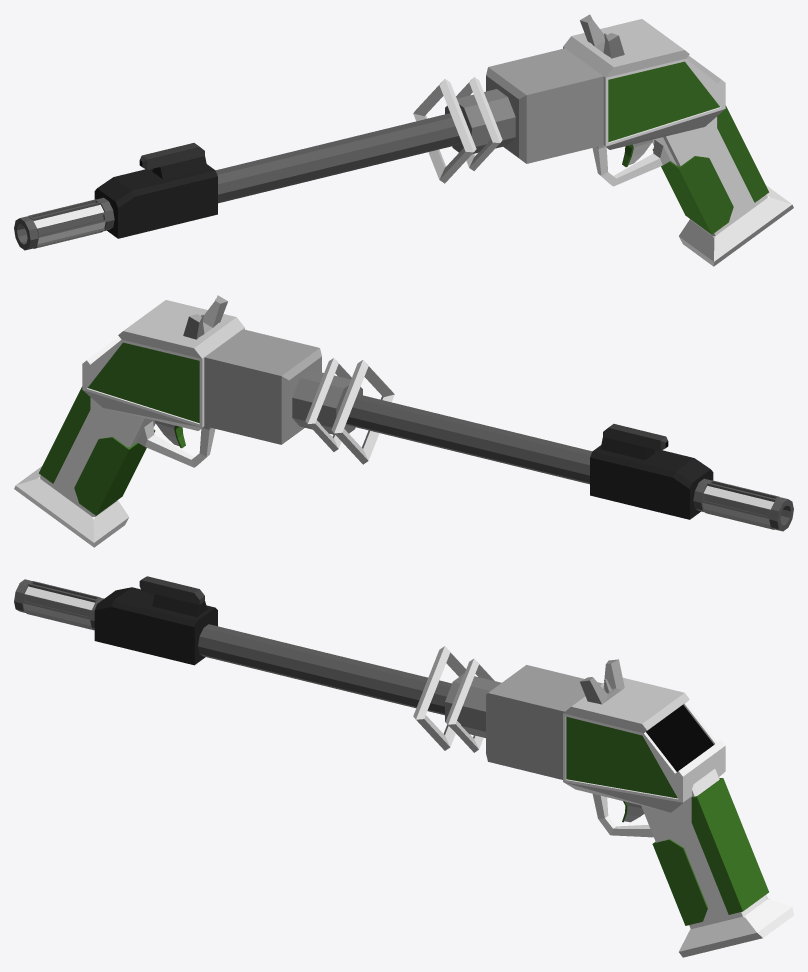
File: Level3Textured.fbx
The picture shows the model from 3 angles, top to bottom: view 1: azimuth 30°, elevation 25°; view 2: azimuth 150°, elevation 25°; view 3: azimuth 330°, elevation 25°; orthographic projection.
Parts seen in each view (by area): view 1: LaserModule, Pipe, SmallLaserModule, Handle.002, RubberPad.004, LaserModule.001, Ring.002, RubberPad.003, TriggerRing.002, Ring.001, Scope; view 2: LaserModule, Pipe, SmallLaserModule, Handle.002, RubberPad.004, LaserModule.001, Ring.002, RubberPad.003, TriggerRing.002, Ring.001, Scope; view 3: LaserModule, Pipe, SmallLaserModule, Handle.002, RubberPad.003, RubberPad.004, LaserModule.002, LaserModule.001, Ring.002, Ring.001, Scope, TriggerRing.002.
Part boxes in pixels (x1,y1,x2,y2): LaserModule: [486, 19, 725, 163]; Pipe: [14, 113, 461, 250]; SmallLaserModule: [94, 143, 217, 238]; Handle.002: [652, 116, 793, 266]; RubberPad.004: [652, 149, 733, 234]; LaserModule.001: [445, 89, 515, 153]; Ring.002: [413, 79, 476, 183]; RubberPad.003: [717, 105, 768, 202]; TriggerRing.002: [592, 140, 670, 186]; Ring.001: [456, 77, 502, 170]; Scope: [580, 14, 624, 58]; LaserModule: [82, 300, 321, 444]; Pipe: [346, 394, 793, 531]; SmallLaserModule: [590, 424, 713, 519]; Handle.002: [14, 397, 155, 547]; RubberPad.004: [74, 429, 155, 515]; LaserModule.001: [292, 370, 362, 434]; Ring.002: [331, 360, 394, 464]; RubberPad.003: [39, 386, 90, 483]; TriggerRing.002: [137, 421, 215, 467]; Ring.001: [305, 358, 351, 451]; Scope: [183, 295, 227, 339]; LaserModule: [486, 665, 725, 812]; Pipe: [14, 579, 451, 715]; SmallLaserModule: [94, 576, 217, 665]; Handle.002: [641, 769, 793, 957]; RubberPad.003: [691, 778, 768, 914]; RubberPad.004: [652, 839, 707, 925]; LaserModule.002: [646, 705, 713, 771]; LaserModule.001: [445, 673, 501, 737]; Ring.002: [413, 646, 465, 750]; Ring.001: [445, 658, 494, 752]; Scope: [580, 659, 624, 704]; TriggerRing.002: [592, 794, 653, 837].
Bounding box in the file's own units: 4.7 × 0.6237 × 1.51.
